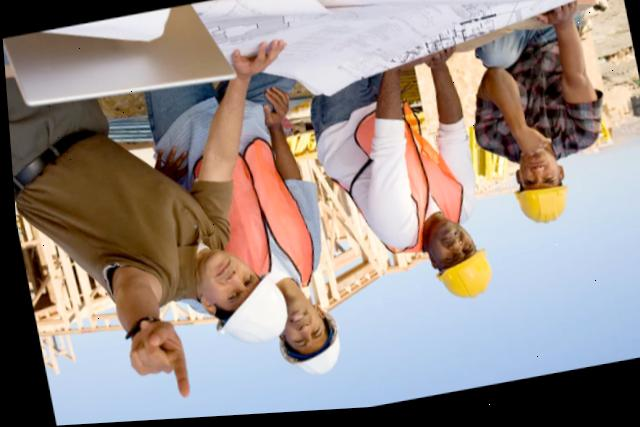helmet: (196, 265, 292, 355), (268, 323, 340, 381), (426, 256, 492, 311), (508, 187, 571, 236)
vest: (188, 140, 308, 301), (347, 106, 464, 248)
